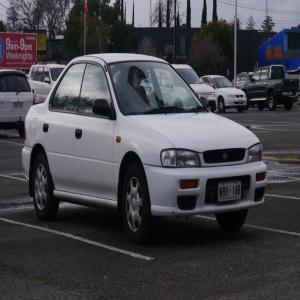Vehicle-registration-plate: (217, 182, 246, 207), (14, 103, 23, 110), (208, 108, 212, 113), (239, 101, 243, 105)
